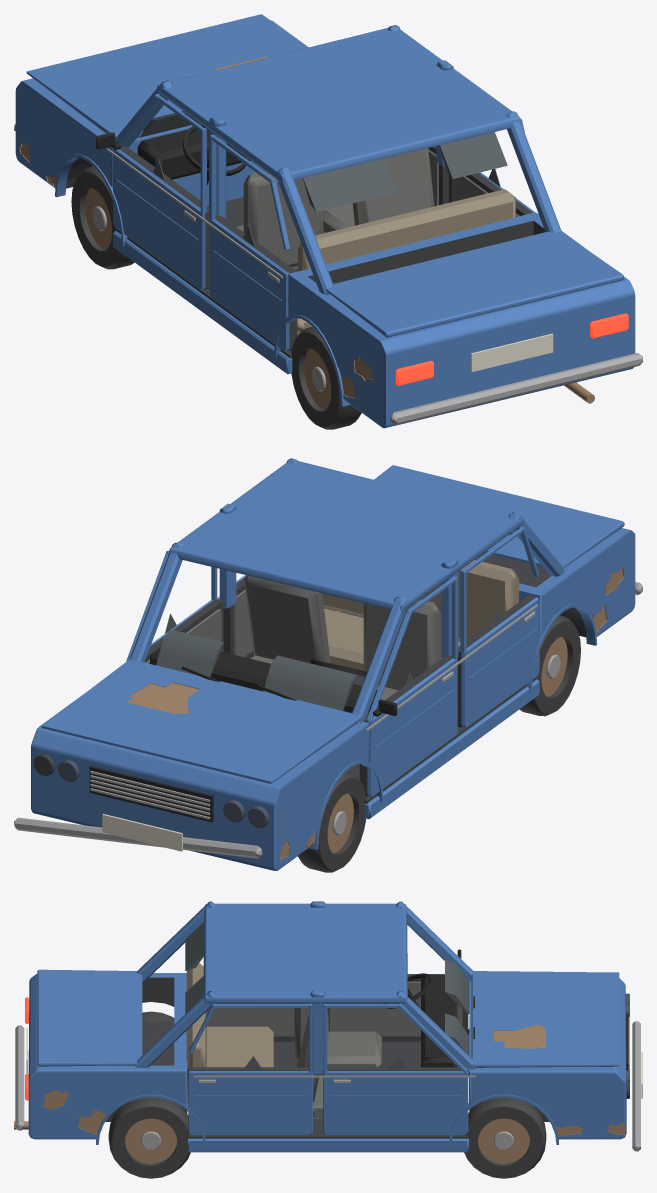
The model's file is wreck_lada.glb.
3 renders of one model, top to bottom at view 1: azimuth 30°, elevation 25°; view 2: azimuth 150°, elevation 25°; view 3: azimuth 270°, elevation 25°, orthographic. The views are drawn at different scales.
Parts seen in each view (by area): view 1: body, boot, bonnet, door_fl, door_rl, wheel_rl, wheel_fl, door_rr, door_fr; view 2: body, bonnet, door_fl, door_rl, boot, wheel_fl, wheel_rl, door_fr, door_rr; view 3: body, bonnet, door_fr, boot, door_rr, wheel_rr, wheel_fr, door_fl, door_rl.
Part boxes in pixels (x1=…): body: x1=14, y1=20, x2=642, y2=428; boot: x1=325, y1=231, x2=623, y2=337; bonnet: x1=26, y1=14, x2=308, y2=139; door_fl: x1=113, y1=93, x2=209, y2=289; door_rl: x1=209, y1=134, x2=297, y2=350; wheel_rl: x1=291, y1=326, x2=361, y2=429; wheel_fl: x1=71, y1=166, x2=134, y2=269; door_rr: x1=449, y1=118, x2=535, y2=216; door_fr: x1=428, y1=146, x2=448, y2=206; body: x1=14, y1=458, x2=642, y2=870; bonnet: x1=41, y1=659, x2=361, y2=783; door_fl: x1=359, y1=576, x2=457, y2=796; door_rl: x1=457, y1=526, x2=539, y2=727; boot: x1=374, y1=465, x2=624, y2=567; wheel_fl: x1=298, y1=772, x2=366, y2=872; wheel_rl: x1=519, y1=615, x2=580, y2=716; door_fr: x1=126, y1=551, x2=223, y2=663; door_rr: x1=224, y1=575, x2=254, y2=658; body: x1=14, y1=901, x2=642, y2=1152; bonnet: x1=471, y1=971, x2=619, y2=1067; door_fr: x1=323, y1=1003, x2=468, y2=1135; boot: x1=37, y1=969, x2=142, y2=1066; door_rr: x1=188, y1=1003, x2=312, y2=1135; wheel_rr: x1=108, y1=1097, x2=190, y2=1178; wheel_fr: x1=464, y1=1097, x2=546, y2=1178; door_fl: x1=327, y1=974, x2=468, y2=1041; door_rl: x1=205, y1=1003, x2=294, y2=1041.
Size of the model in its own units: 1.8 by 1.41 by 4.31.
